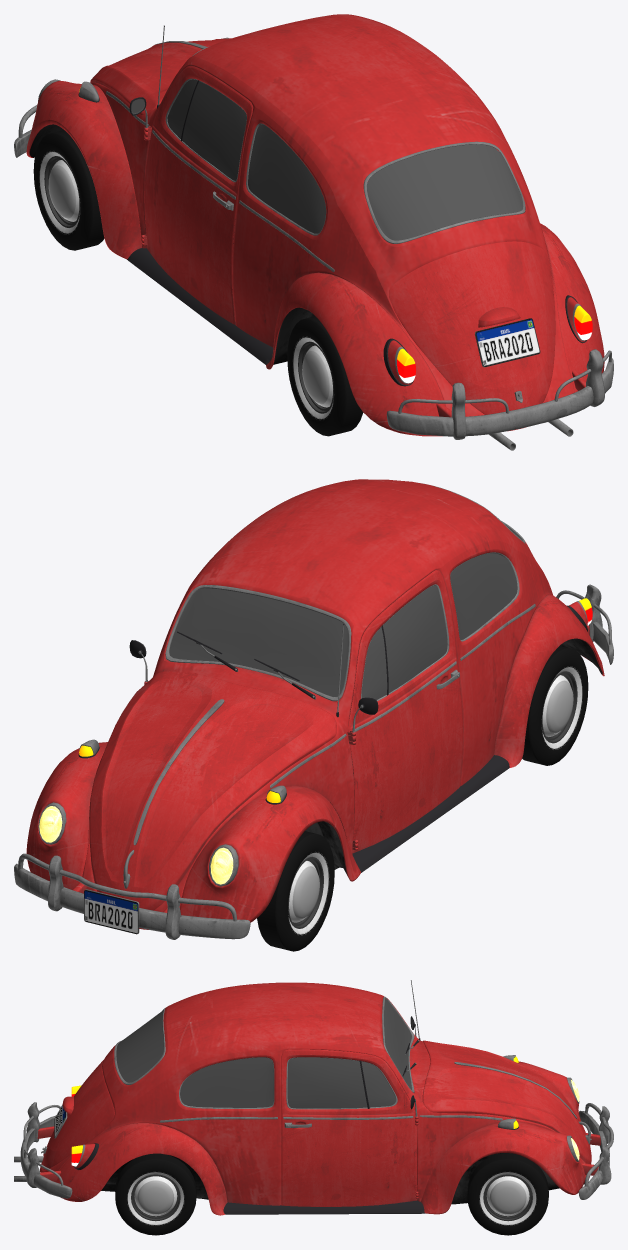
Rendered from vw_beetle.glb.
3 views of the same model, one above another, from view 1: azimuth 30°, elevation 25°; view 2: azimuth 150°, elevation 25°; view 3: azimuth 270°, elevation 25° (orthographic). The views are drawn at different scales.
Visible parts, largest first — view 1: Chasis, Details_02, Details_01, WheelF_Left, WheelR_Left, Details_03; view 2: Chasis, Details_02, Details_01, WheelF_Left, WheelR_Left, Details_03; view 3: Chasis, Details_02, WheelF_Right, WheelR_Right, Details_01, Details_03.
Boxes of the visible parts, left/top/right/bottom form: Chasis: left=26, top=14, right=604, bottom=436; Details_02: left=106, top=25, right=525, bottom=272; Details_01: left=14, top=105, right=613, bottom=450; WheelF_Left: left=33, top=130, right=104, bottom=250; WheelR_Left: left=287, top=316, right=363, bottom=436; Details_03: left=38, top=37, right=592, bottom=386; Chasis: left=26, top=479, right=604, bottom=929; Details_02: left=129, top=483, right=535, bottom=845; Details_01: left=14, top=584, right=613, bottom=939; WheelF_Left: left=257, top=831, right=334, bottom=951; WheelR_Left: left=522, top=645, right=588, bottom=765; Details_03: left=38, top=598, right=592, bottom=886; Chasis: left=40, top=982, right=591, bottom=1215; Details_02: left=114, top=980, right=577, bottom=1122; WheelF_Right: left=467, top=1153, right=548, bottom=1235; WheelR_Right: left=115, top=1153, right=196, bottom=1235; Details_01: left=14, top=1096, right=613, bottom=1199; Details_03: left=71, top=1040, right=579, bottom=1198.
Bounding box in the file's own units: 1.55 × 1.64 × 4.57.
5 materials, 5 textured.
